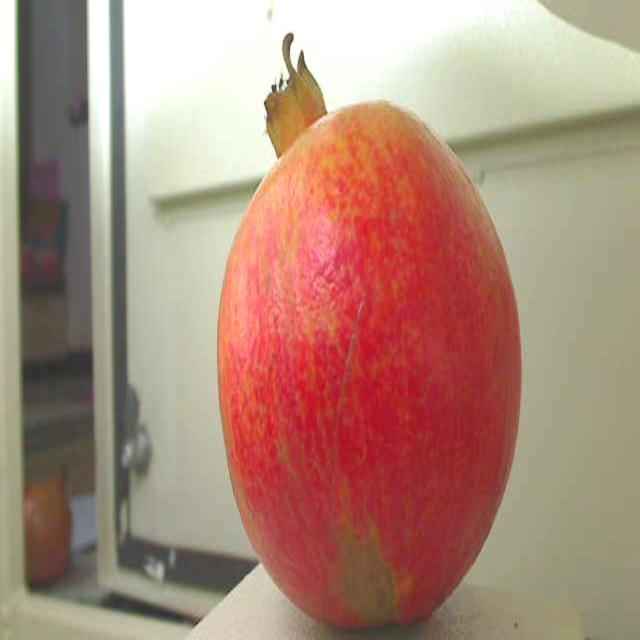pomegranate: (210, 46, 530, 640)
